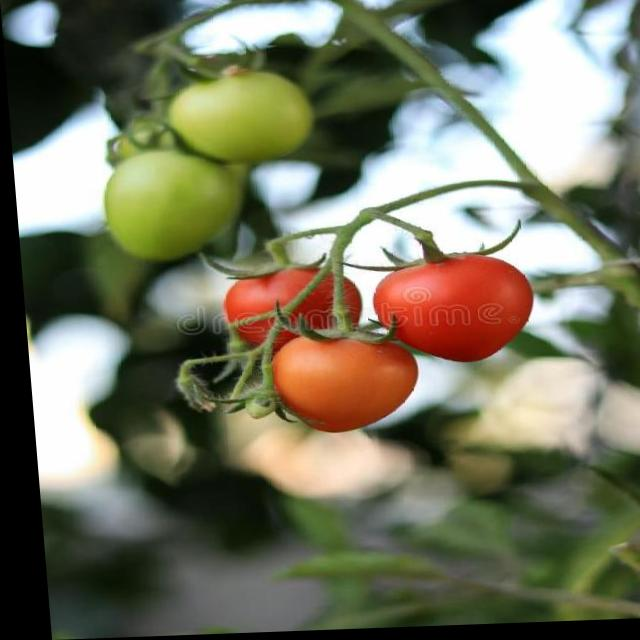kirmizi: (218, 258, 571, 352)
yesil: (75, 43, 325, 262)
